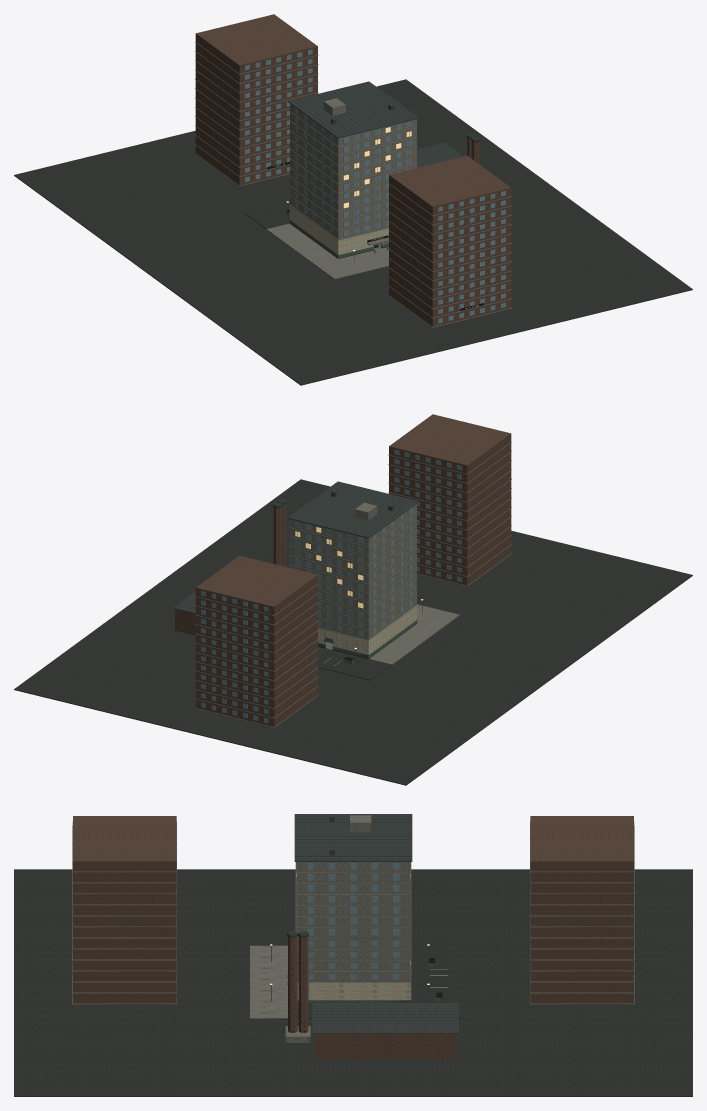
The model's file is morrow-level.glb.
3 views of the same model, one above another, from view 1: azimuth 30°, elevation 25°; view 2: azimuth 150°, elevation 25°; view 3: azimuth 270°, elevation 25° (orthographic). The views are drawn at different scales.
Parts seen in each view (by area): view 1: Morrow-asphalt, Morrow-soot-brick, Morrow-weathered-concrete, Morrow-window-night, Morrow-oxidized-steel, Morrow-warm-plaster; view 2: Morrow-asphalt, Morrow-soot-brick, Morrow-weathered-concrete, Morrow-window-night, Morrow-oxidized-steel, Morrow-warm-plaster; view 3: Morrow-asphalt, Morrow-soot-brick, Morrow-weathered-concrete, Morrow-oxidized-steel, Morrow-window-night, Morrow-warm-plaster.
Boxes of the visible parts, <box> form: Morrow-asphalt: <box>14,79,692,385</box>; Morrow-soot-brick: <box>195,14,511,326</box>; Morrow-weathered-concrete: <box>195,42,511,327</box>; Morrow-window-night: <box>245,49,505,323</box>; Morrow-oxidized-steel: <box>287,81,480,264</box>; Morrow-warm-plaster: <box>289,205,388,254</box>; Morrow-asphalt: <box>14,479,692,785</box>; Morrow-soot-brick: <box>175,414,511,726</box>; Morrow-weathered-concrete: <box>195,442,511,727</box>; Morrow-window-night: <box>201,449,461,723</box>; Morrow-oxidized-steel: <box>173,481,422,662</box>; Morrow-warm-plaster: <box>318,605,417,654</box>; Morrow-asphalt: <box>14,869,692,1096</box>; Morrow-soot-brick: <box>73,816,633,1059</box>; Morrow-weathered-concrete: <box>72,815,634,1042</box>; Morrow-oxidized-steel: <box>271,814,460,1033</box>; Morrow-window-night: <box>72,821,634,997</box>; Morrow-warm-plaster: <box>297,982,411,1000</box>.
Bounding box in the file's own units: 150 × 48.03 × 190.
18 materials, 14 textured.
